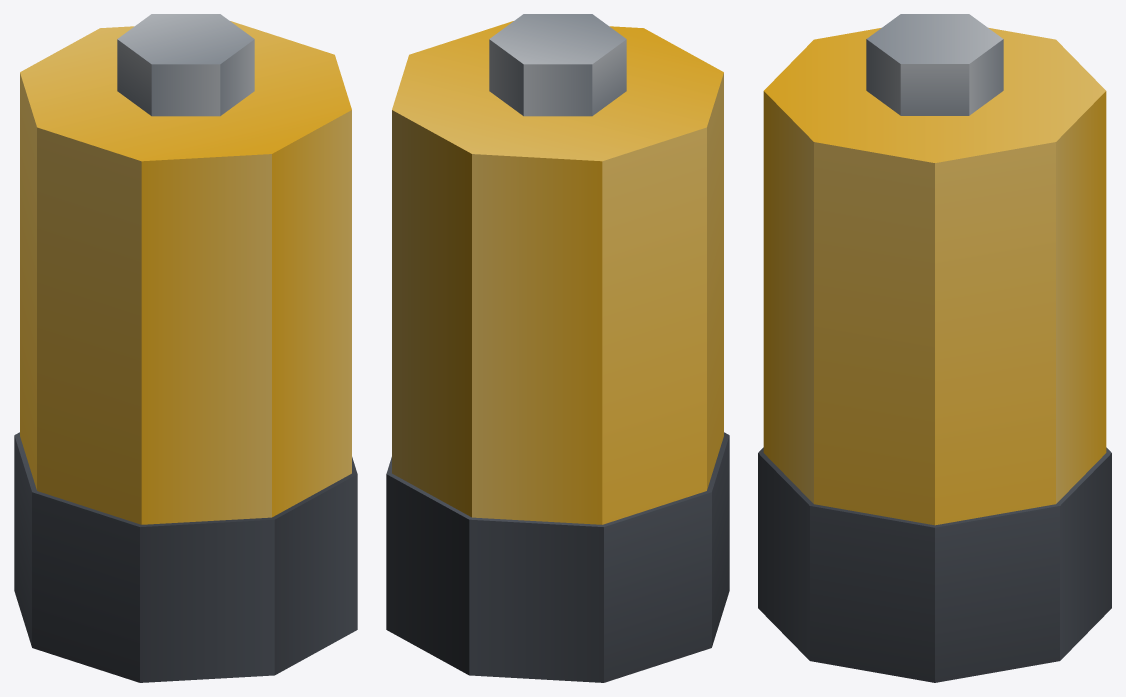
Rendered from dt_aa_battery.fbx.
The picture shows the model from 3 angles, left to right: view 1: azimuth 30°, elevation 25°; view 2: azimuth 150°, elevation 25°; view 3: azimuth 270°, elevation 25°; orthographic projection.
Parts seen in each view (by area): view 1: dt_aa_battery; view 2: dt_aa_battery; view 3: dt_aa_battery.
Part boxes in pixels (box(x1,y1,x2,y2)): dt_aa_battery: box(14, 14, 357, 682); dt_aa_battery: box(386, 14, 729, 682); dt_aa_battery: box(758, 14, 1111, 682).
Size of the model in its own units: 22.55 by 40 by 22.55.
